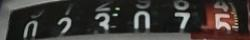digits: (132, 10, 152, 38), (212, 11, 232, 38), (169, 12, 190, 37), (92, 13, 110, 38), (19, 20, 39, 40), (54, 16, 70, 38)
